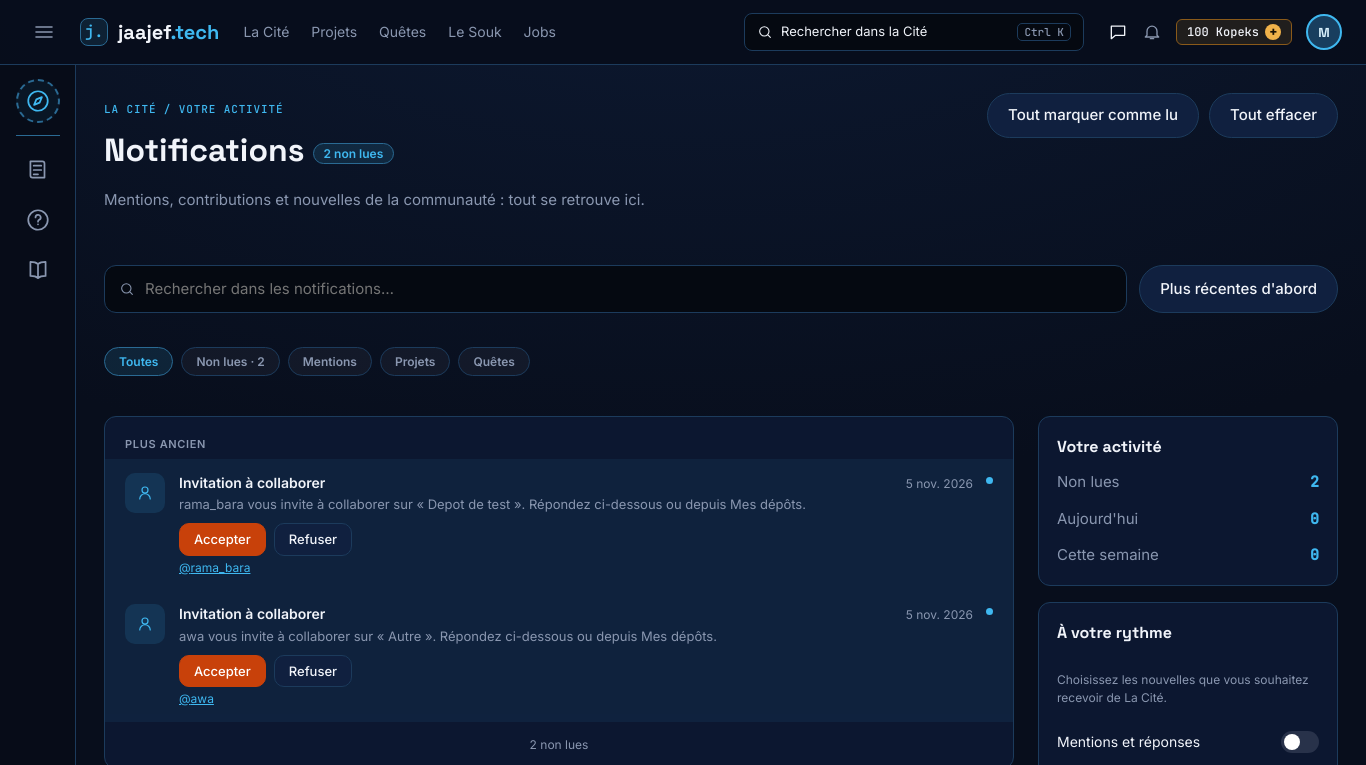
Test case: Notifications page › an invitation to collaborate can be accepted or declined from the notice itself
The image size is (1366, 765).
Click the 1st button "Accepter": (222, 540) [179,523,266,556]
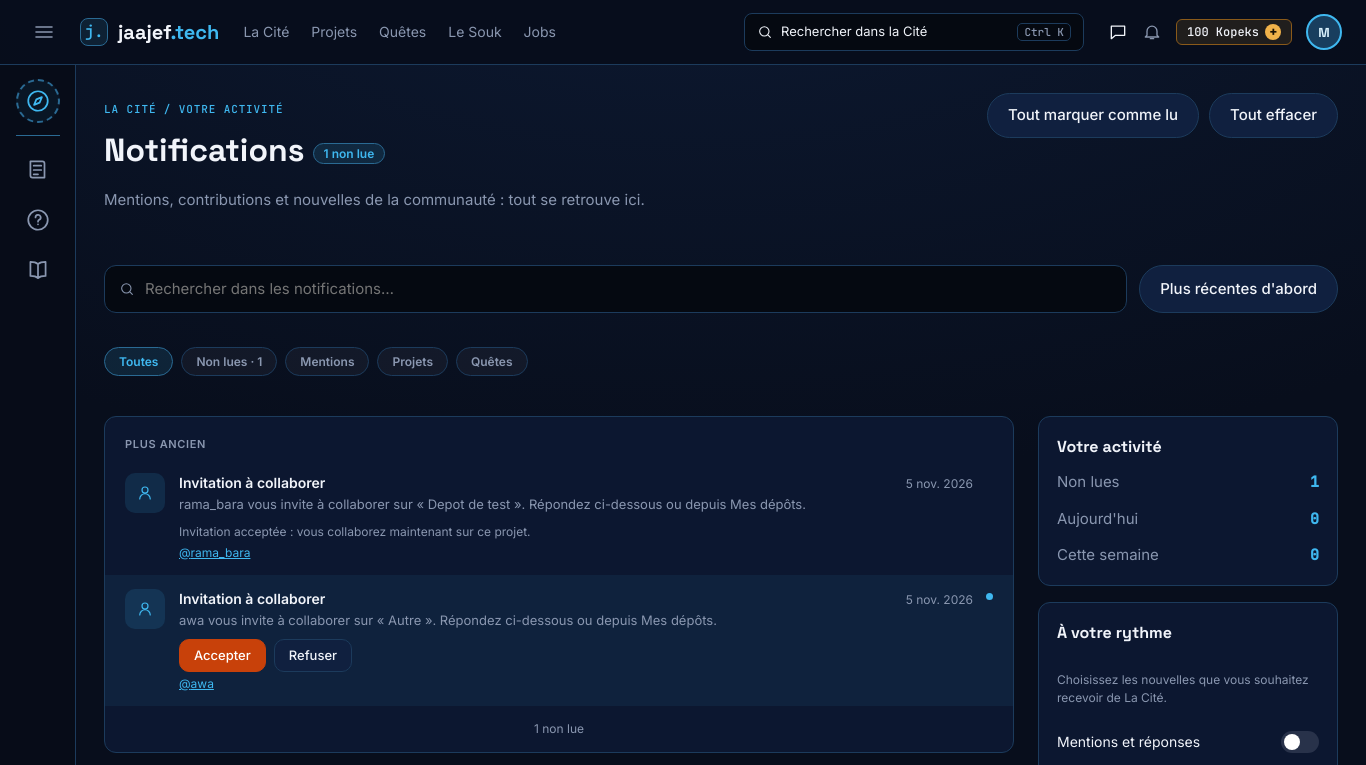
Now the text "Invitation acceptée : vous collaborez maintenant sur ce projet." is shown, box [179,523,531,540]
Click the button "Refuser": (313, 656) [274,639,352,672]
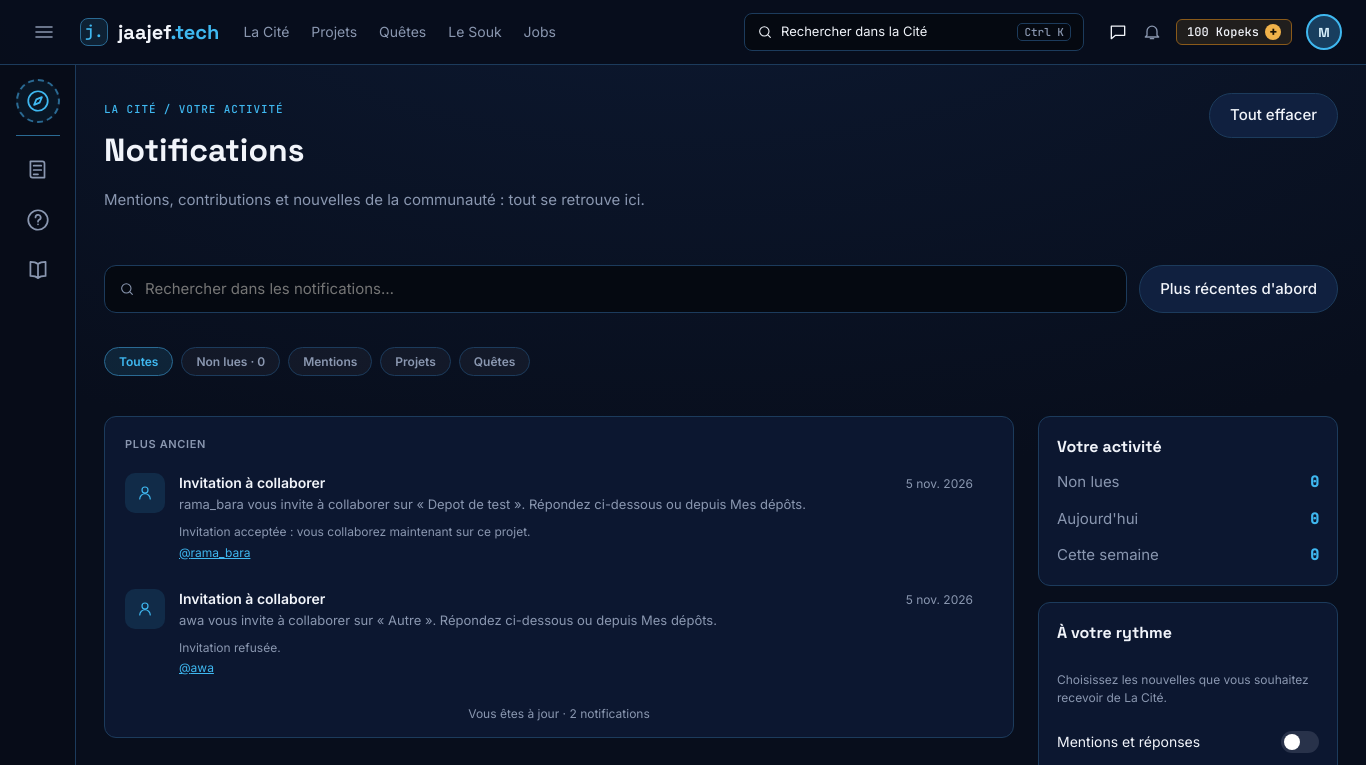
Now the text "Invitation refusée." is shown, box [179,639,281,656]
Now the button "Accepter" is gone
